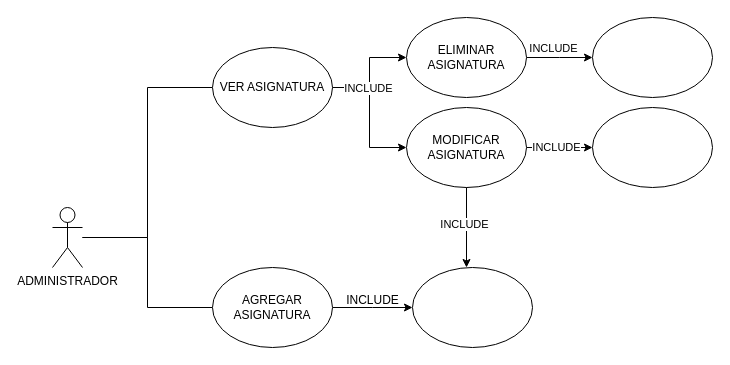
This 730x365 diagram has some shape labels left out. The centre of each missing label's shape, as x and y in pixels:
"ACTUALIZAR ASIGNATURA" goes at point 652,147.
"VALIDAR DATOS" goes at point 472,307.
"VERIFICAR EXISTENCIA" goes at point 652,57.
